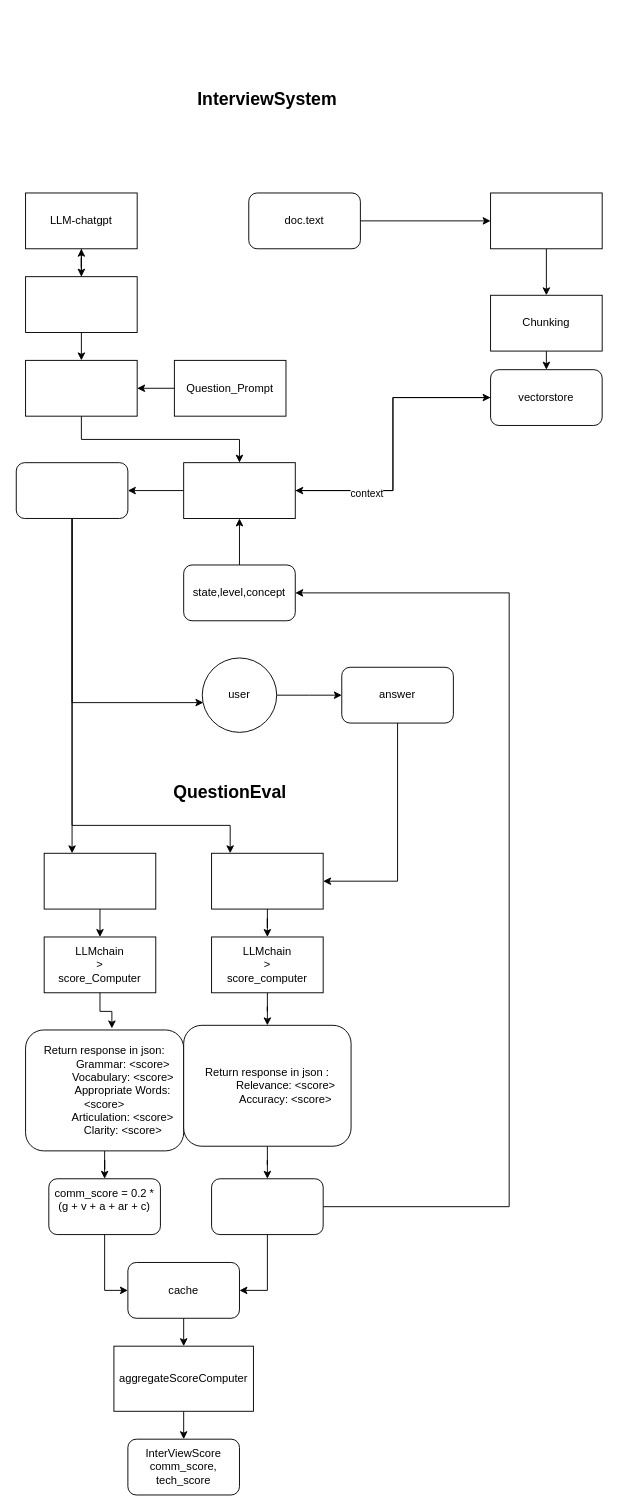
This 618x1511 diagram has some shape labels left out. Each missing label, with the centre of its shape:
comm_prompt: point 99,880
LLM wrapper - accessing GPT through api: point 81,304
LLMchain: point 81,387
question: point 71,490
QuestionGenerator: point 239,490
scoring_prompt: point 267,880
tech_score = 0.6 * relevance + 0.4 * accuracy: point 267,1206
TextLoader: point 546,220
